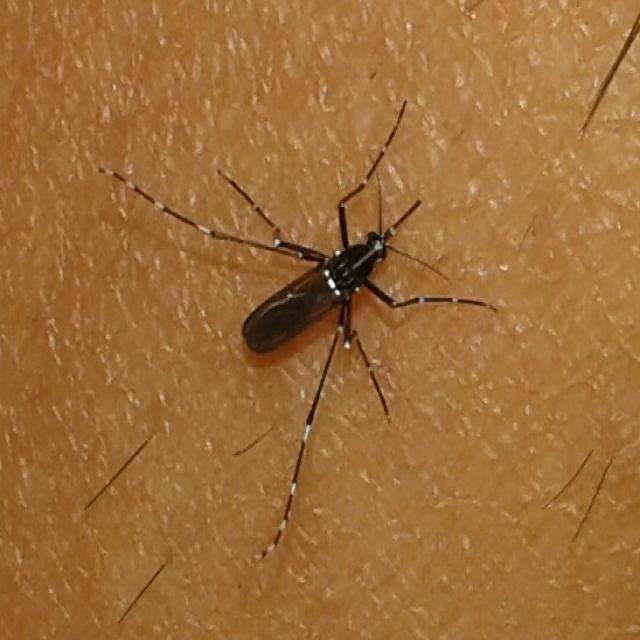albopictus: (104, 87, 511, 549)
